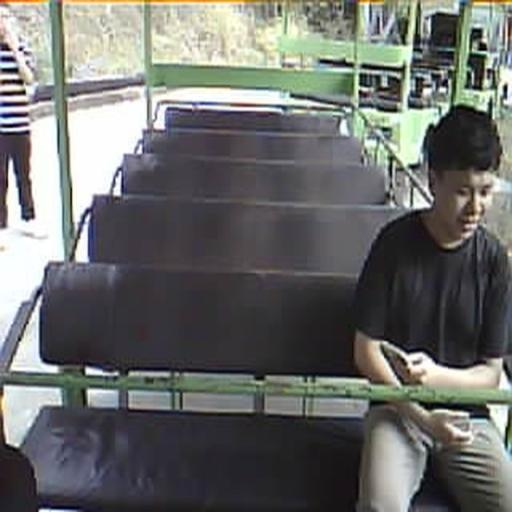persona: (350, 103, 512, 510)
